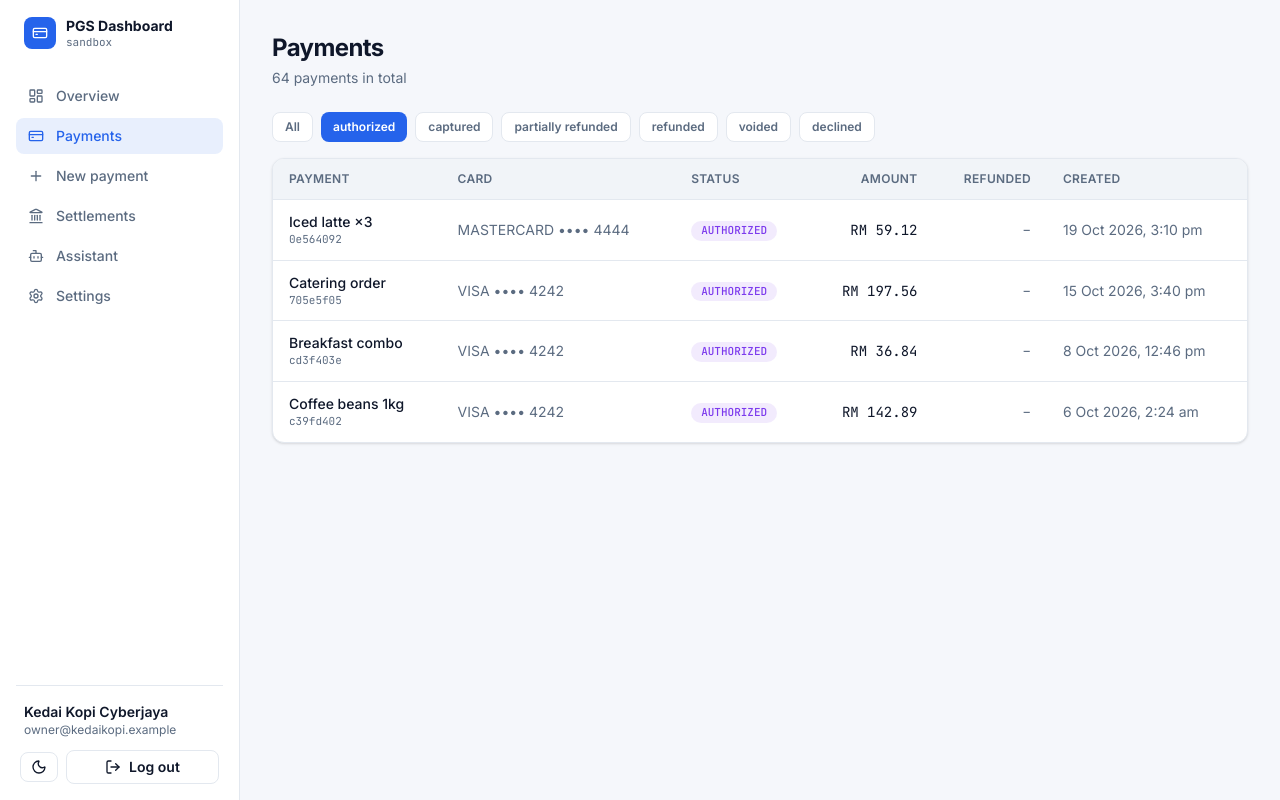
payment detail › captures an authorized payment
Click the row "RM": click(760, 230) top-left (273, 200), bottom-right (1247, 260)
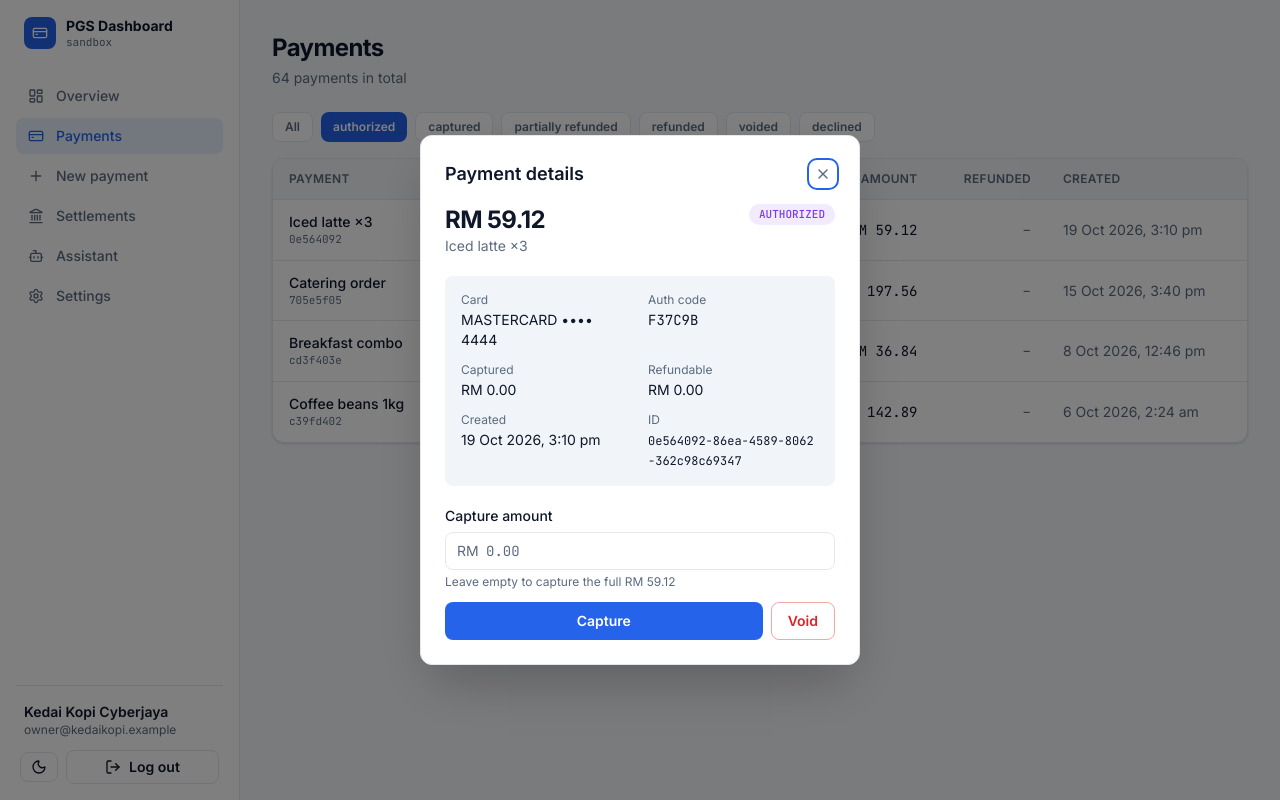
Click the button "Capture": click(604, 621) top-left (445, 602), bottom-right (763, 640)
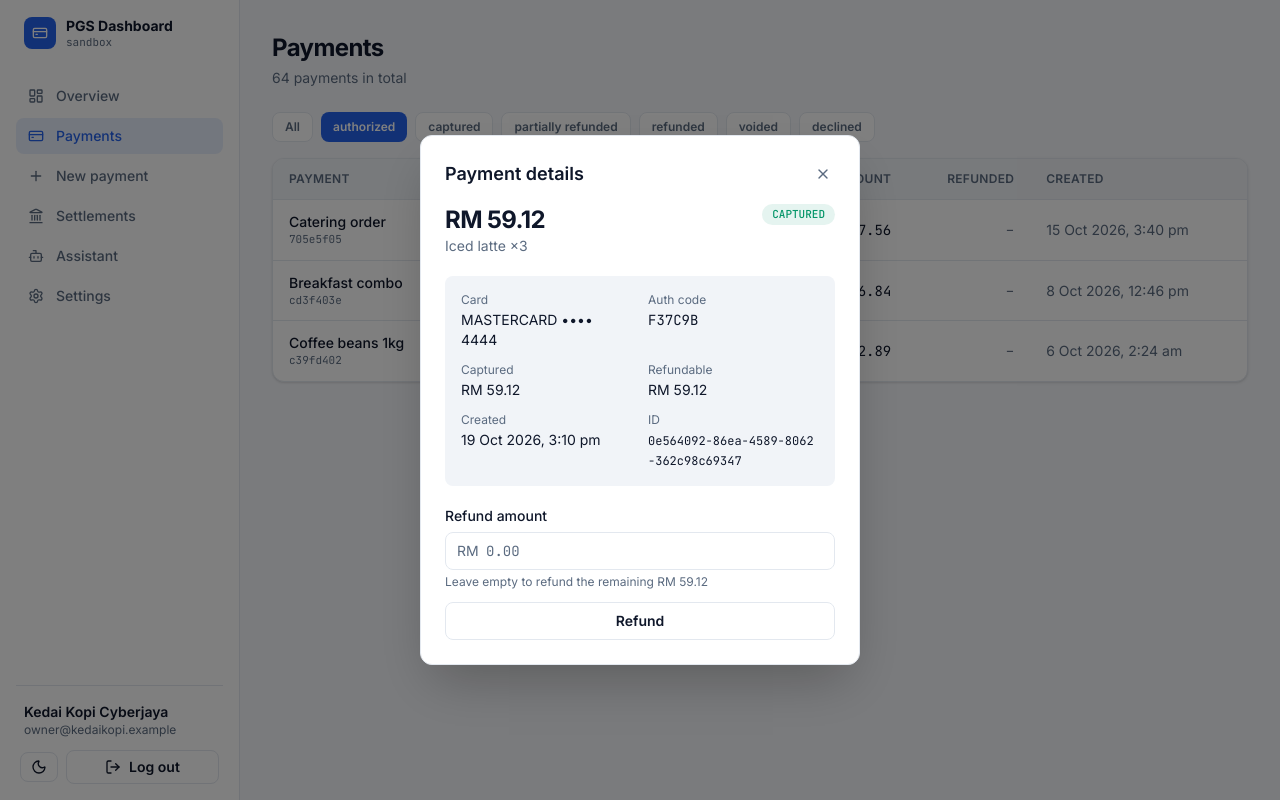
Result: the text "CAPTURED" is shown at top-left (762, 204), bottom-right (835, 224)
Result: the button "Refund" is shown at top-left (445, 602), bottom-right (835, 640)
